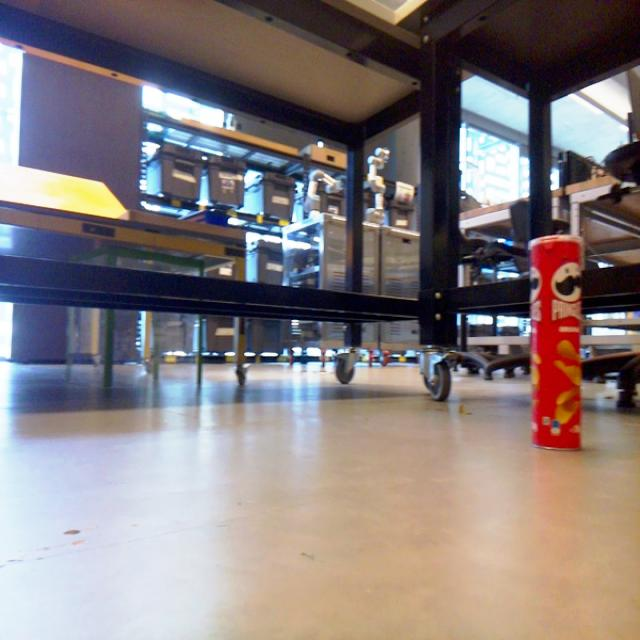redpringles: (506, 214, 600, 466)
